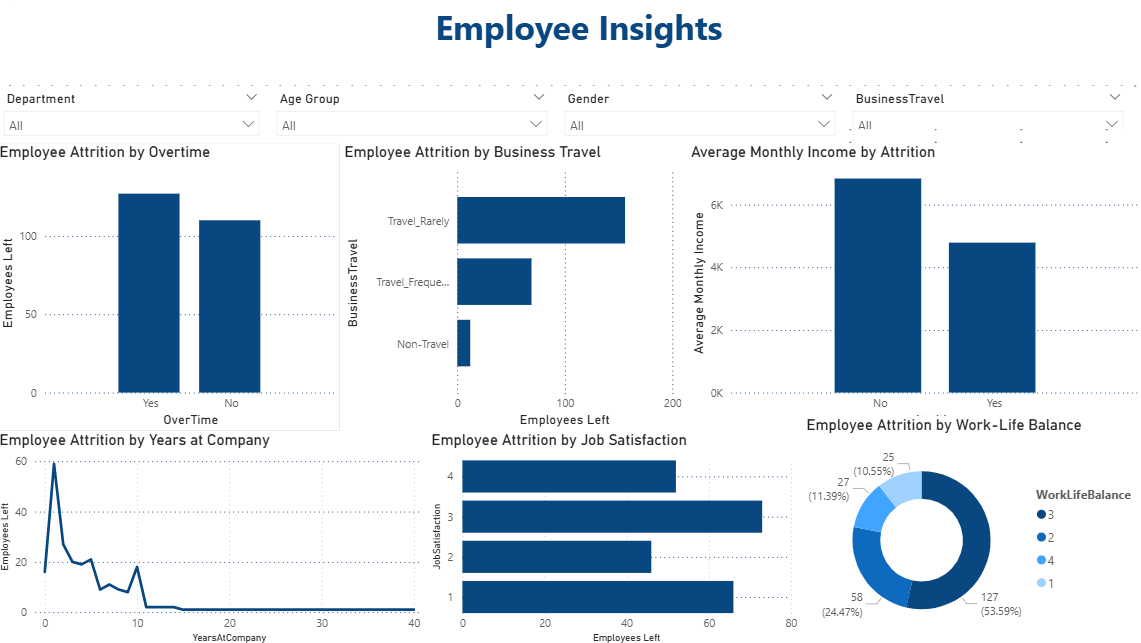

This screenshot's page, from the dashboard's own definition file:
{"tool":"powerbi","page":{"name":"Employee Insights","canvas":[1280,720],"ordinal":1},"visuals":[{"type":"clusteredColumnChart","title":"Employee Attrition by Overtime","fields":{"Category":["Employees.OverTime"],"Y":["Employees.Employees Left"]},"box":[0,160,384,320],"z":0},{"type":"clusteredBarChart","title":"Employee Attrition by Business Travel","fields":{"Category":["Employees.BusinessTravel"],"Y":["Employees.Employees Left"]},"box":[384,160,384,320],"z":1000},{"type":"clusteredColumnChart","title":"Average Monthly Income by Attrition","fields":{"Category":["Employees.Attrition"],"Y":["Employees.Average Monthly Income"]},"box":[768,160,512,320],"z":2000},{"type":"lineChart","title":"Employee Attrition by Years at Company","fields":{"Category":["Employees.YearsAtCompany"],"Y":["Employees.Employees Left"]},"box":[0,480,480,240],"z":3000},{"type":"clusteredBarChart","title":"Employee Attrition by Job Satisfaction","fields":{"Category":["Employees.JobSatisfaction"],"Y":["Employees.Employees Left"]},"box":[480,480,416,240],"z":4000},{"type":"donutChart","title":"Employee Attrition by Work-Life Balance","fields":{"Category":["Employees.WorkLifeBalance"],"Y":["Employees.Employees Left"]},"box":[896,464,384,256],"z":5000},{"type":"textbox","box":[16,0,1264,96],"z":6000},{"type":"slicer","fields":{"Values":["Employees.Age Group"]},"box":[304,96,320,64],"z":7000},{"type":"slicer","fields":{"Values":["Employees.Gender"]},"box":[624,96,320,64],"z":8000},{"type":"slicer","fields":{"Values":["Employees.BusinessTravel"]},"box":[944,96,320,48],"z":9000},{"type":"slicer","fields":{"Values":["Employees.Department"]},"box":[0,96,304,64],"z":10000}]}

Visuals, with their boxes in screenshot pixels (x1, y1, x2, y2), scaled from the page's 1280x720 canvas onto the 1141x643 screenshot:
"Employee Attrition by Overtime" clusteredColumnChart: [0, 143, 342, 429]
"Employee Attrition by Business Travel" clusteredBarChart: [342, 143, 685, 429]
"Average Monthly Income by Attrition" clusteredColumnChart: [685, 143, 1140, 429]
"Employee Attrition by Years at Company" lineChart: [0, 429, 428, 642]
"Employee Attrition by Job Satisfaction" clusteredBarChart: [428, 429, 799, 642]
"Employee Attrition by Work-Life Balance" donutChart: [799, 414, 1140, 642]
textbox: [14, 0, 1140, 86]
slicer - Employees.Age Group: [271, 86, 556, 143]
slicer - Employees.Gender: [556, 86, 841, 143]
slicer - Employees.BusinessTravel: [841, 86, 1127, 129]
slicer - Employees.Department: [0, 86, 271, 143]
